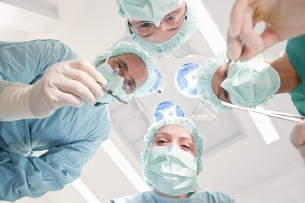Mask: (145, 130, 208, 193)
